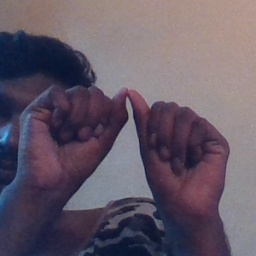A: (38, 83, 215, 184)
